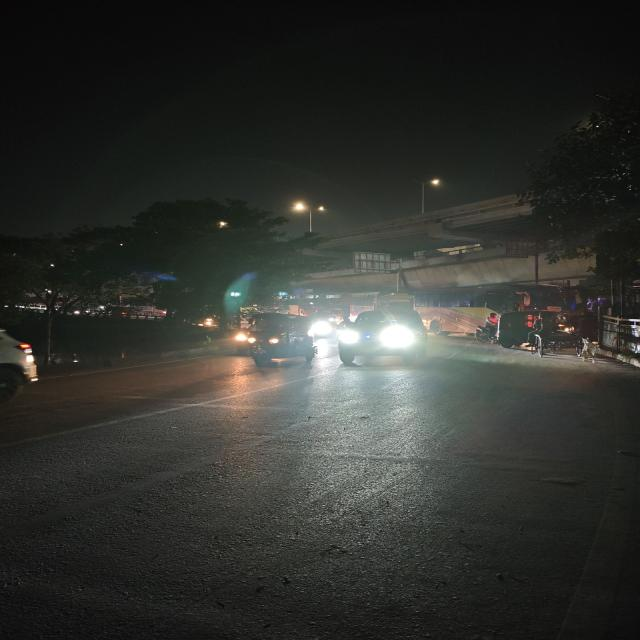bus: (417, 284, 572, 315)
car: (333, 308, 421, 369), (0, 319, 44, 415)
cng: (241, 311, 319, 368), (241, 311, 318, 368)
rickshaw: (531, 326, 586, 359)
